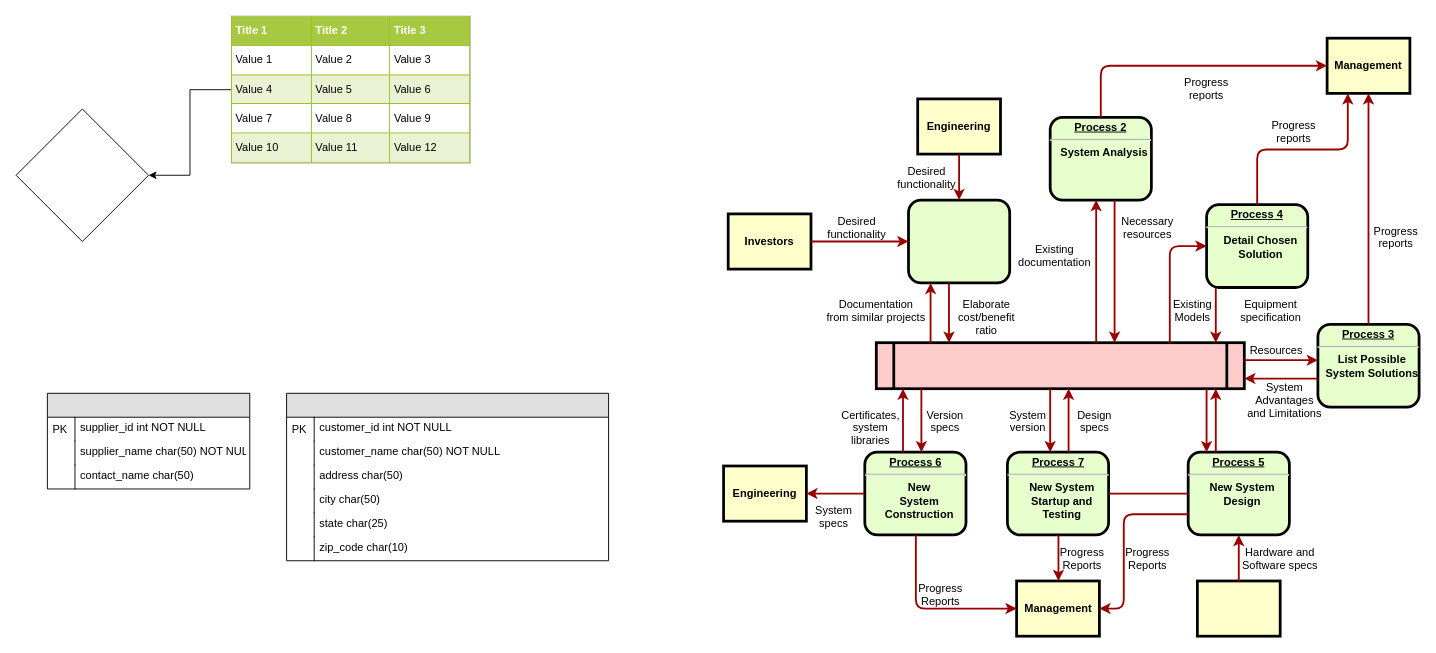
This 1436x653 diagram has some shape labels left out. The box of each missing label's shape, as (x1, y1, x2, y2) in pixels:
Customers: (286, 392, 609, 561)
ON-DEMAND SYSTEM DEVELOPMENT: (874, 341, 1245, 390)
Process 1 System Study Preparation: (907, 198, 1011, 284)
Suppliers: (46, 392, 250, 489)
Test: (15, 108, 149, 242)
Vendors: (1196, 579, 1281, 637)
